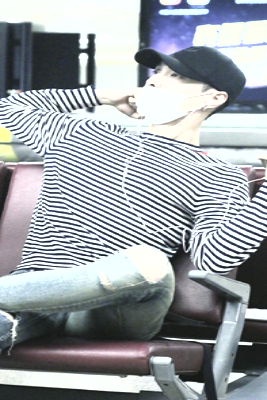mask_weared_incorrect: (136, 67, 206, 121)
